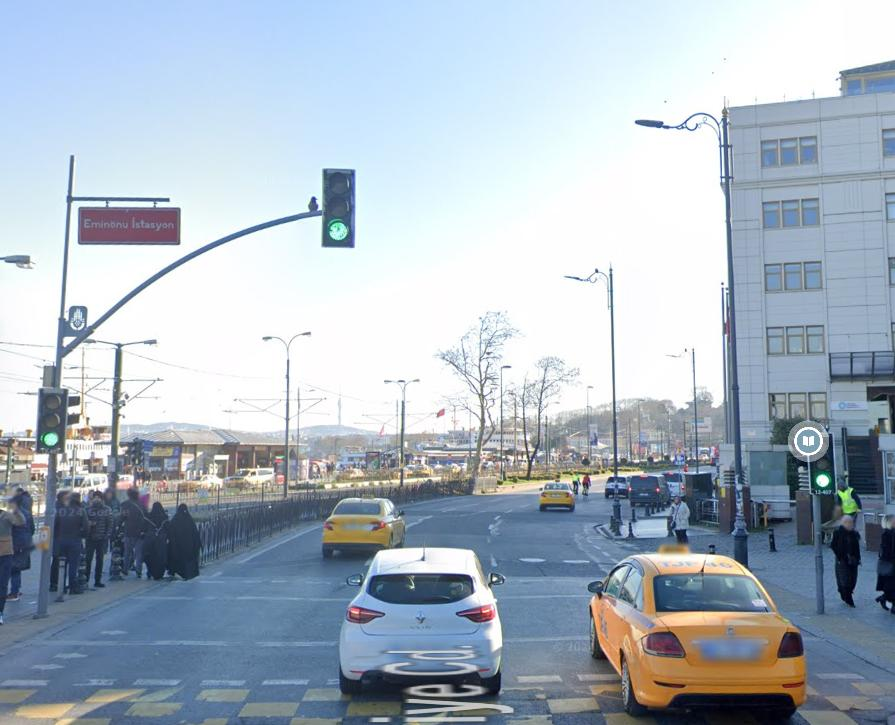greenlight: (324, 169, 351, 243), (40, 388, 64, 446), (813, 440, 833, 490)
